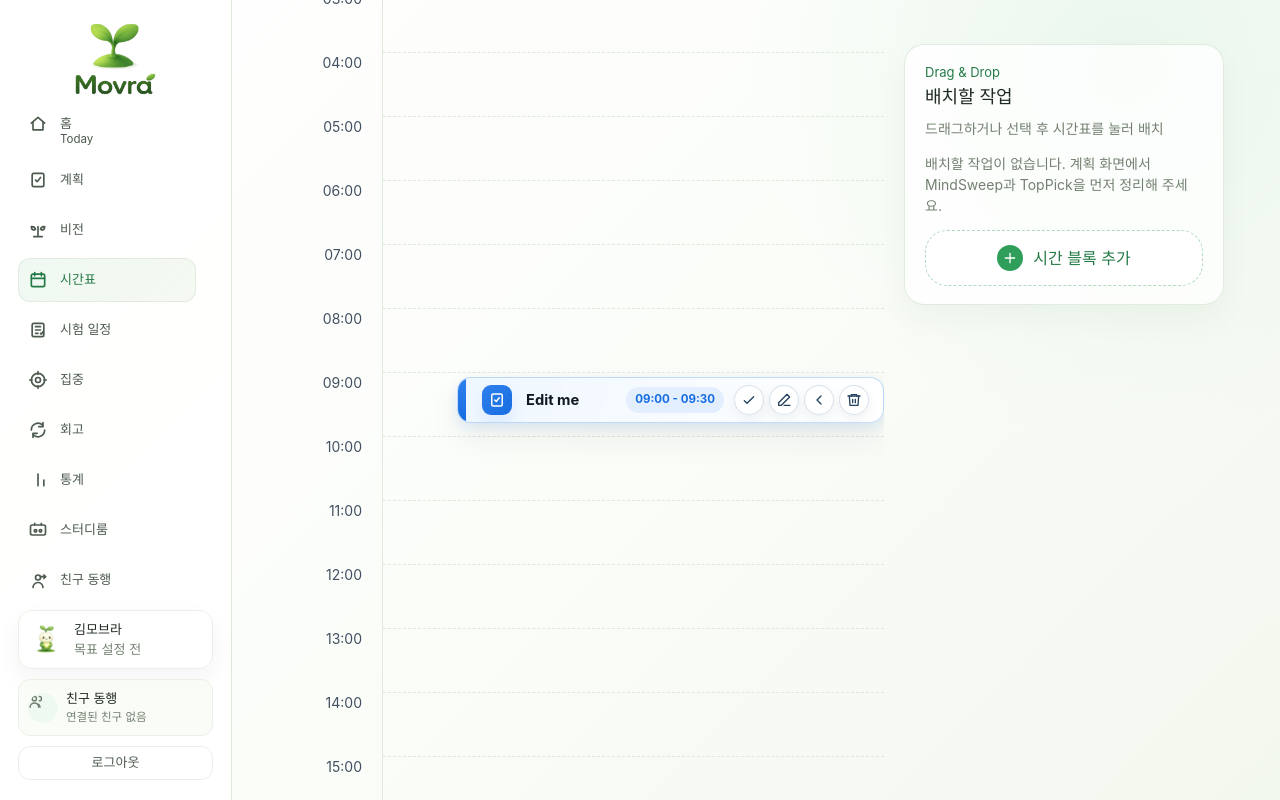
TimetablePage › lets users edit incomplete task content from timetable cards
(page scrolled)
Click the button named "Edit me 수정" at point(784, 400), box [769,385,799,415]
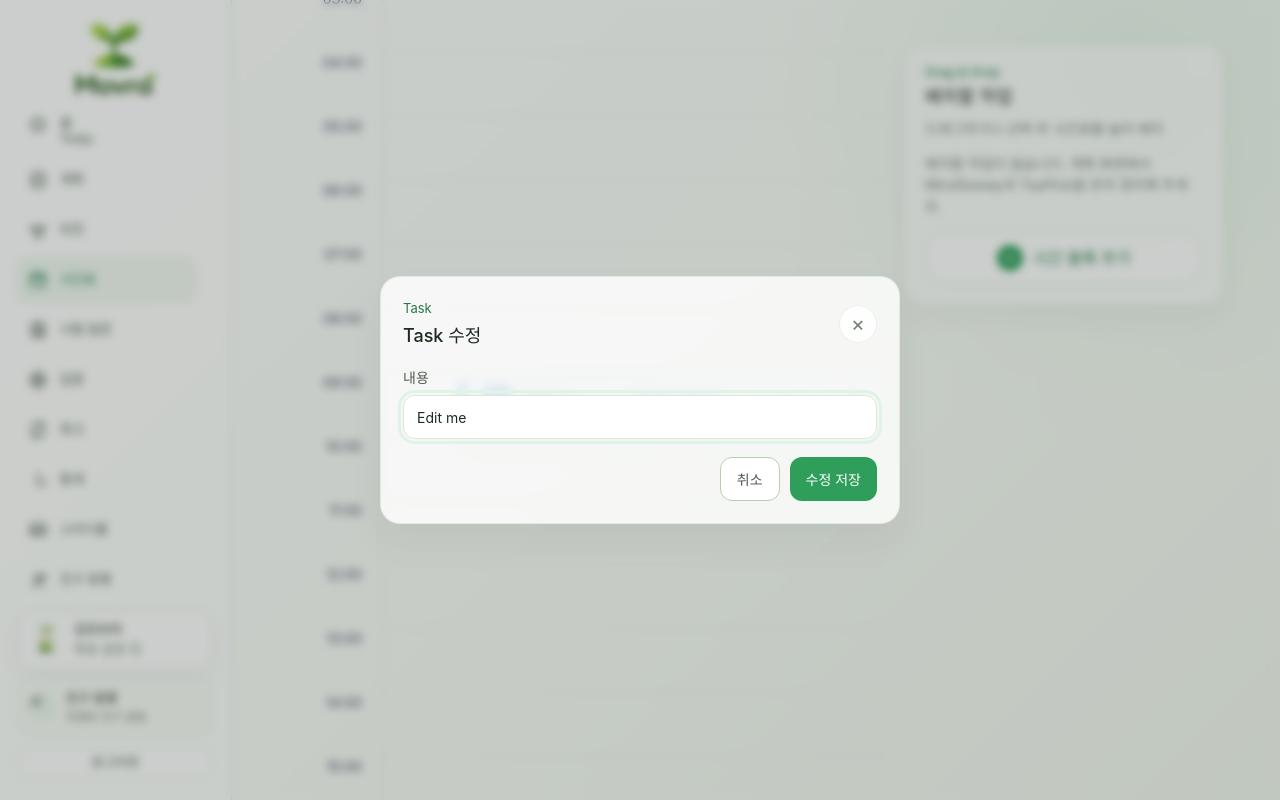
Replace the text in the field labelled "내용" with "Edited task" at point(640, 417), box [403,395,877,439]
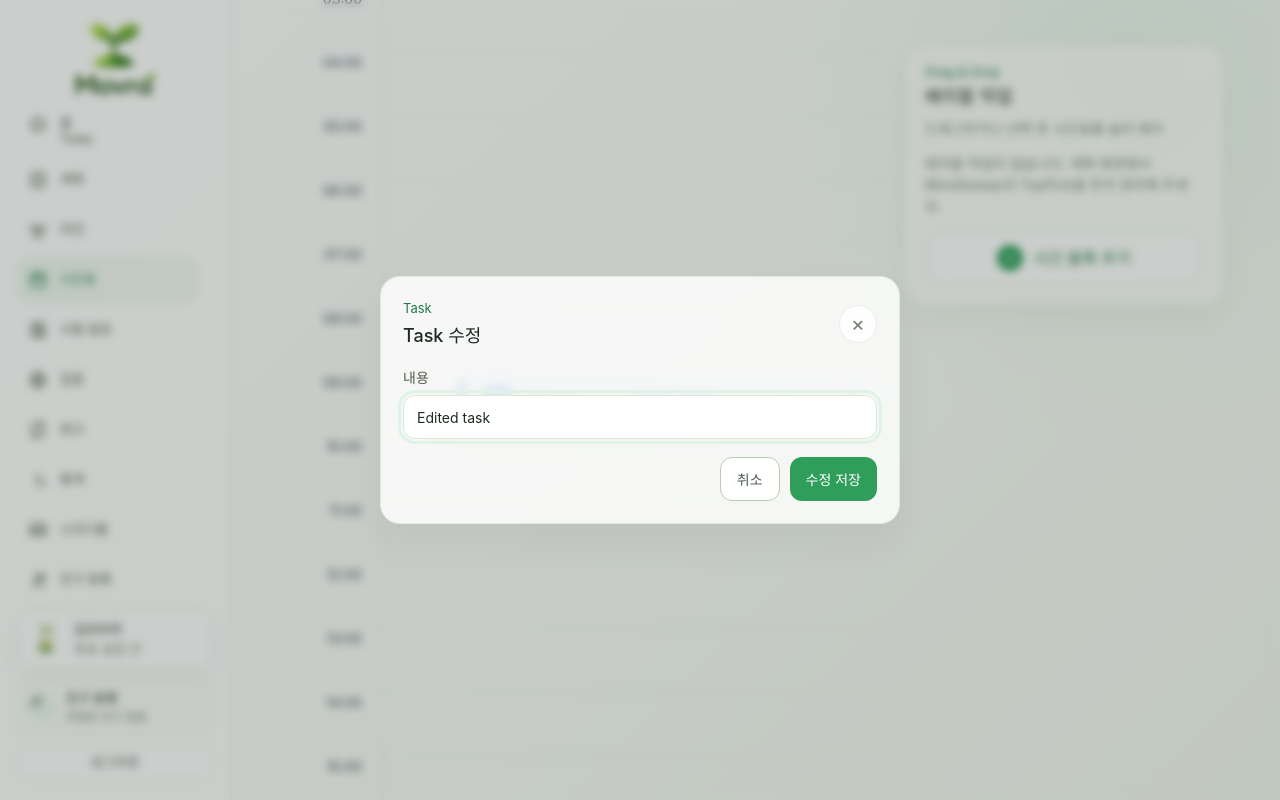
Click the button "수정 저장" at point(833, 479), box [790,457,877,501]
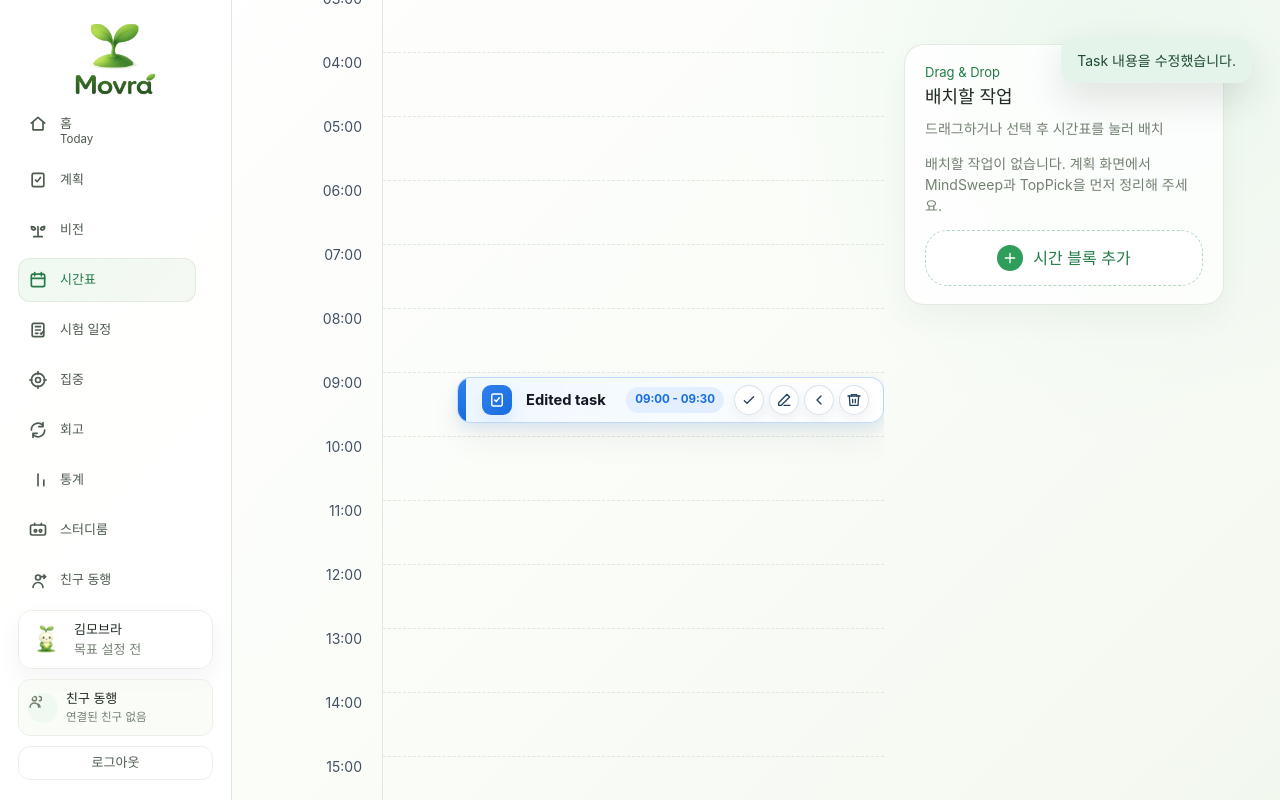
Check: the text "Task 내용을 수정했습니다." is shown, box [1061,38,1252,83]
Check: the text "Edited task" is shown, box [526,389,606,411]
Click the button named "Edited task 완료" at point(749, 400), box [734,385,764,415]
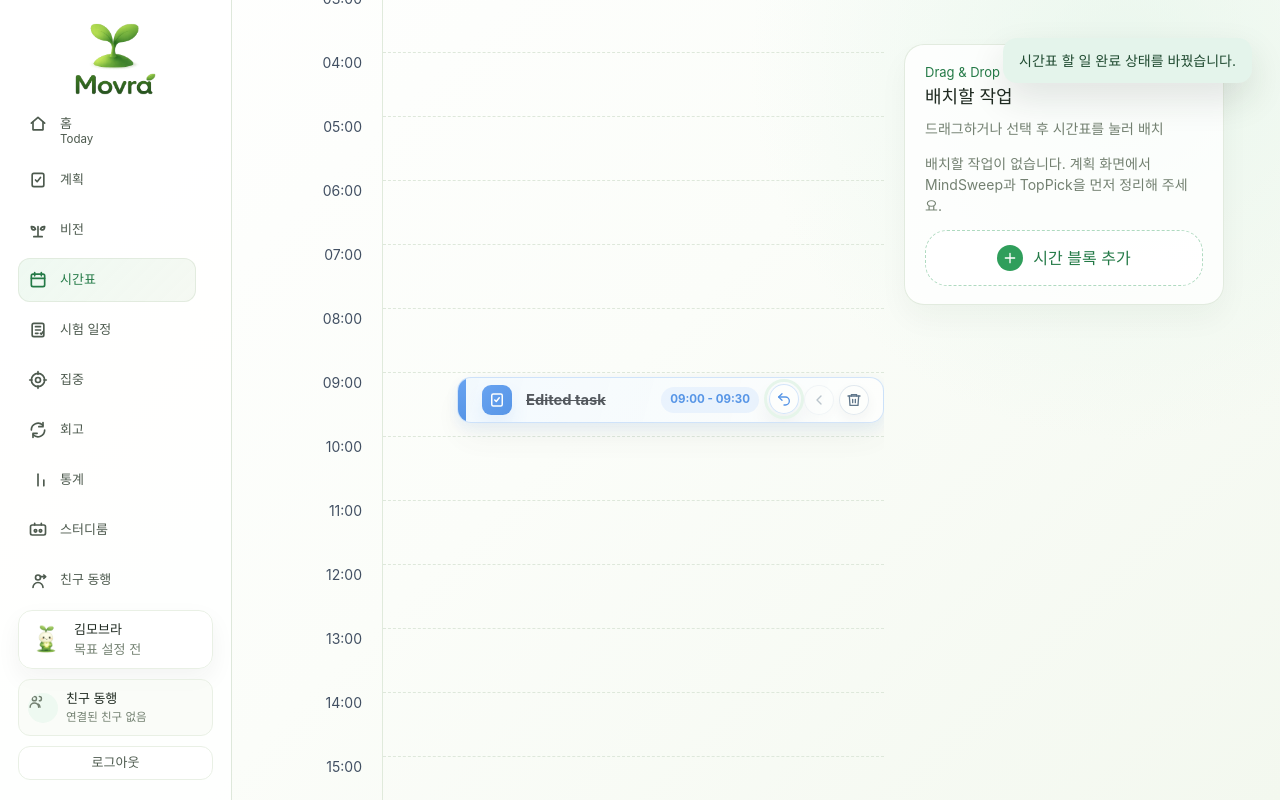
Check: the text "시간표 할 일 완료 상태를 바꿨습니다." is shown, box [1003,38,1252,83]
Check: the button labelled "Edited task 수정" is gone
